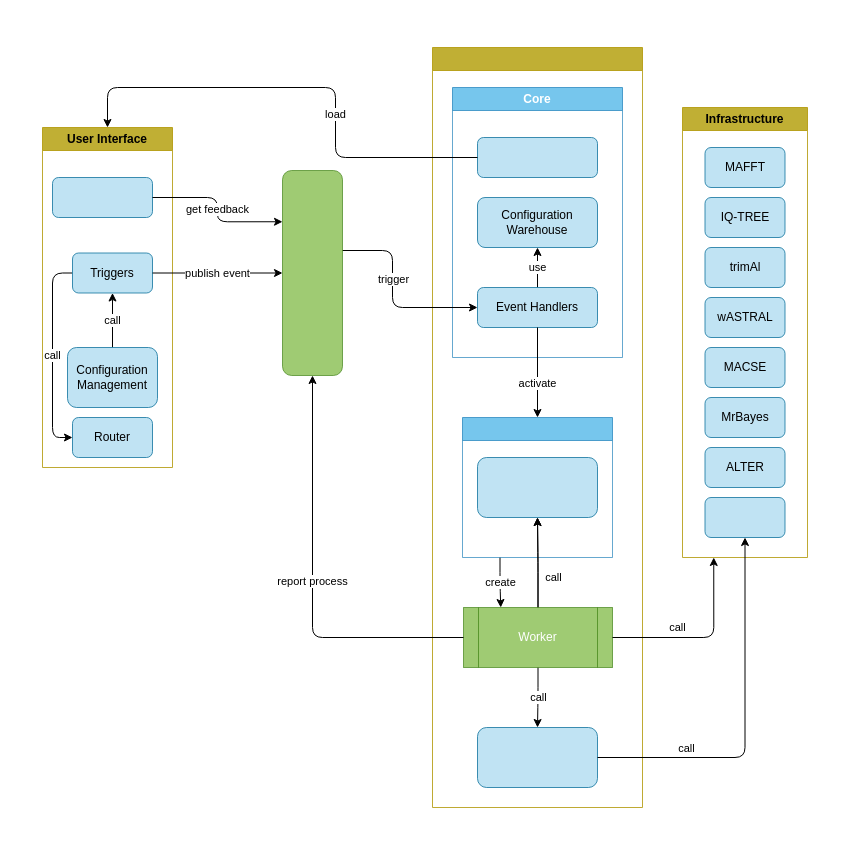
The diagram is 844 pixels wide and 854 high, and some of its shapes have lost their labels. Each missing label, with the box of its shape:
FigTree: (704, 496, 785, 538)
IPC Channel: (282, 170, 342, 376)
Program Backend: (432, 46, 642, 808)
Sequence Concatenator: (476, 456, 598, 518)
Task Monitor: (52, 176, 152, 218)
Task Runner: (462, 416, 612, 558)
Visualizer: (476, 726, 598, 788)
Window Manager: (476, 136, 598, 178)
